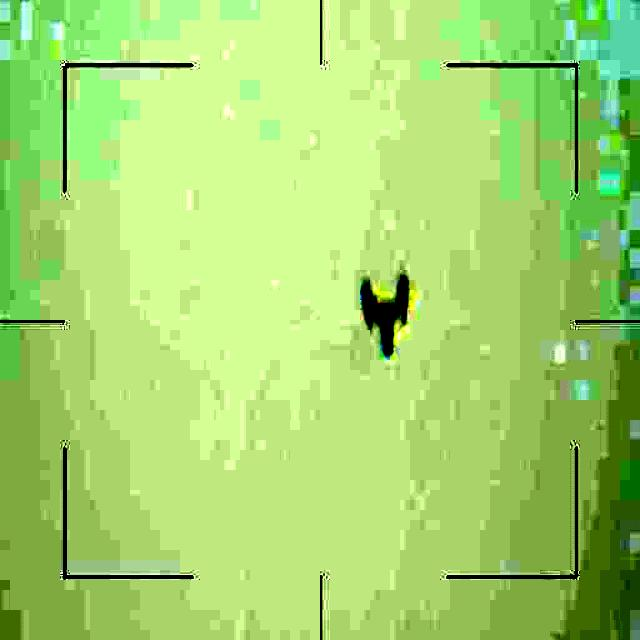bird: (356, 272, 419, 365)
